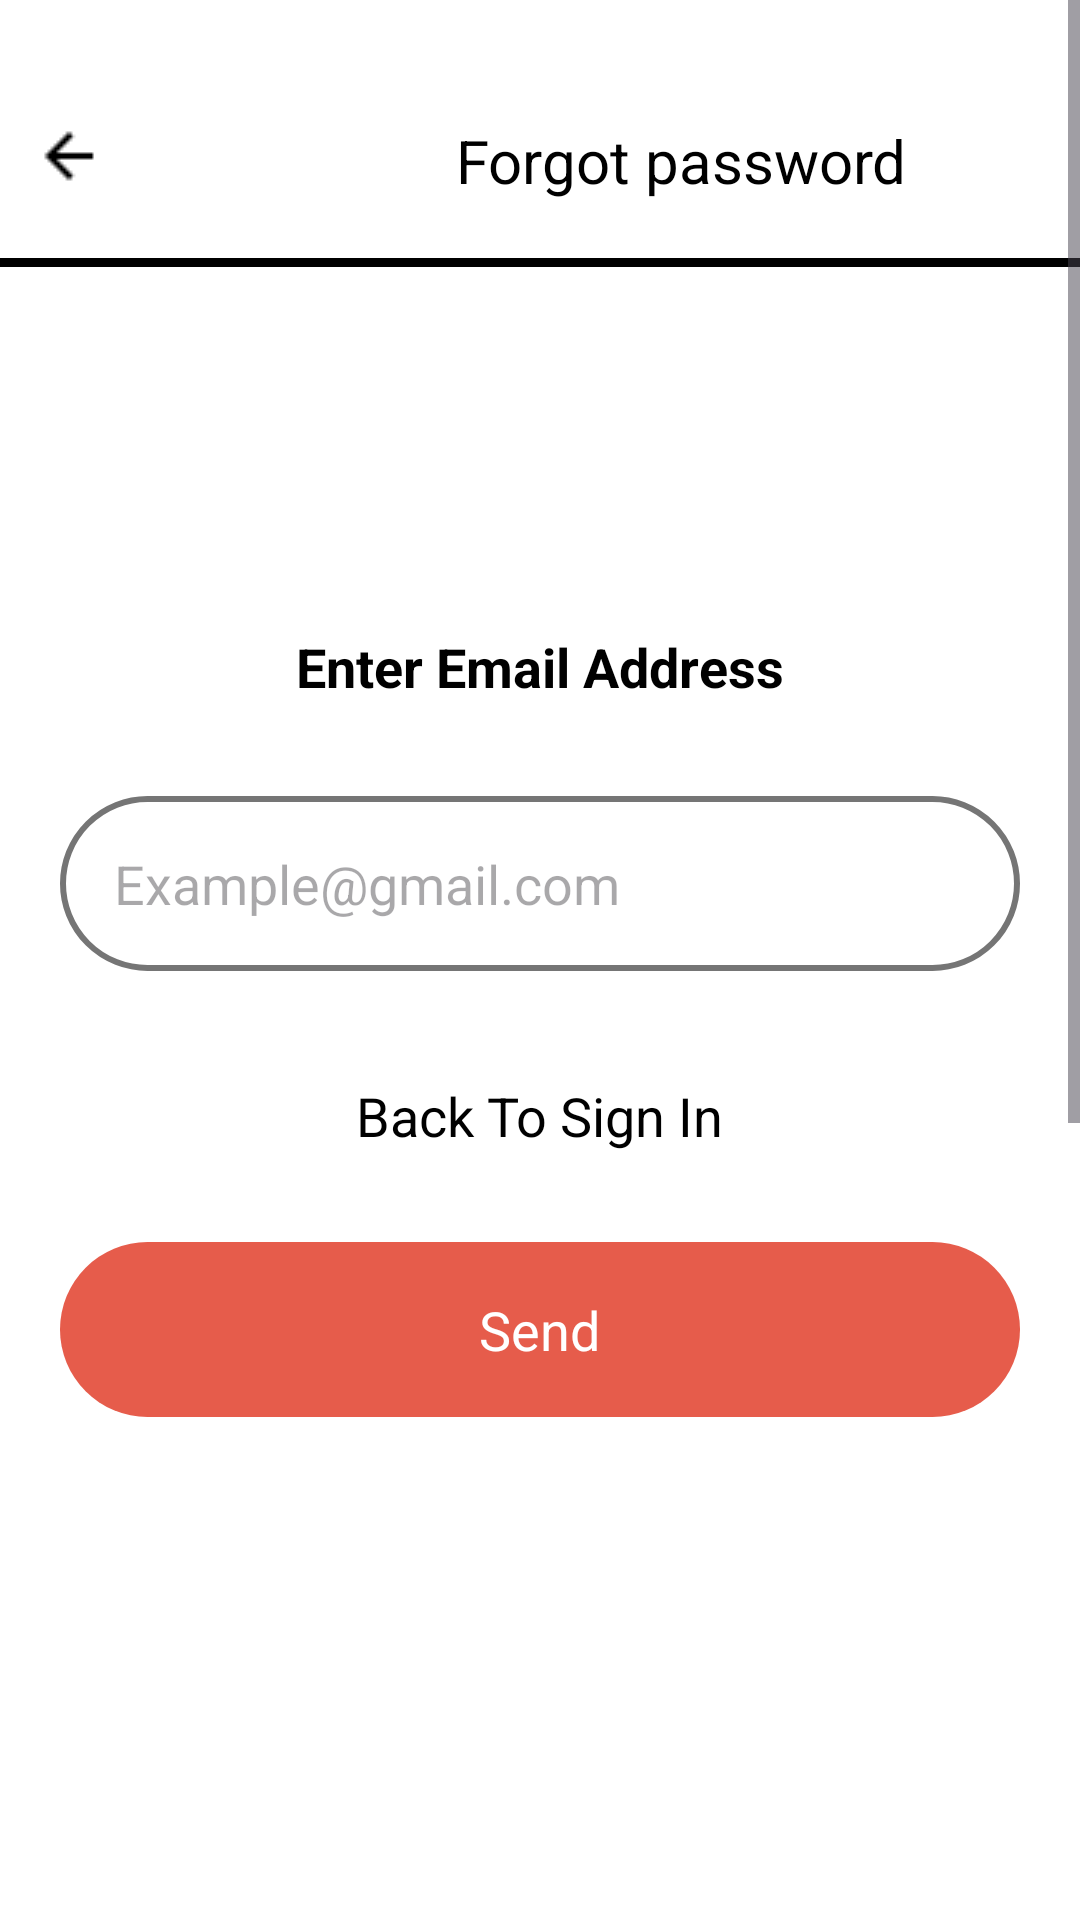

Screen size 1080*1920. Icon name, then its center in pixels as point (x, y):
back: point (69, 156)
